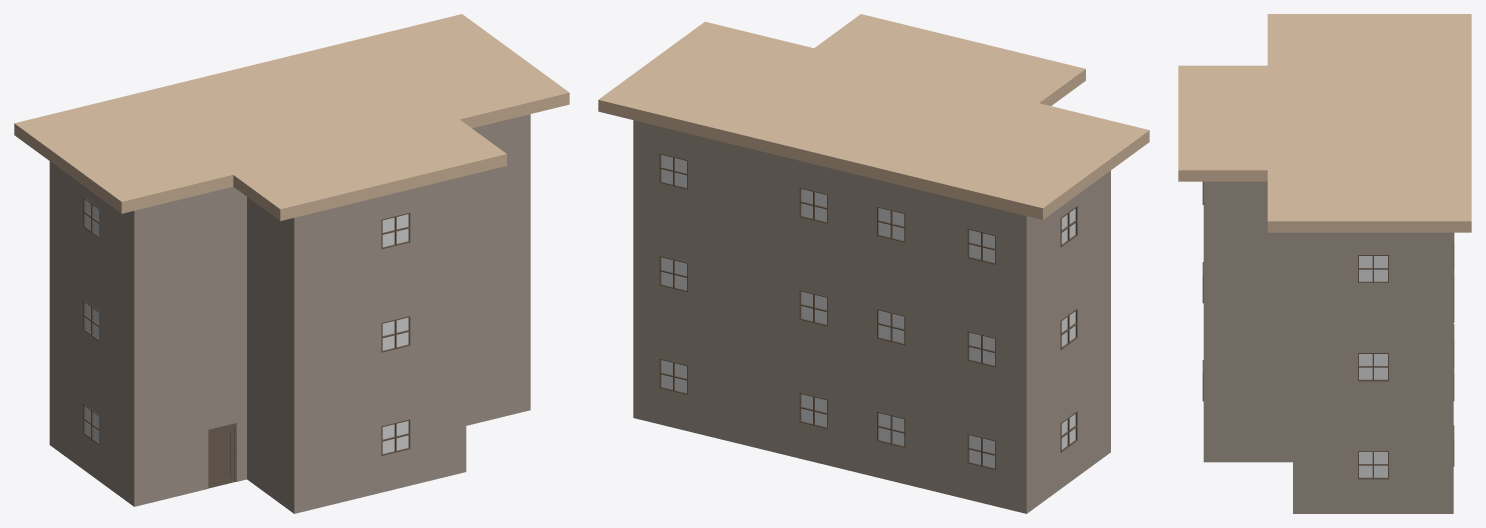
The model's file is House_27.fbx.
3 renders of one model, left to right at view 1: azimuth 30°, elevation 25°; view 2: azimuth 150°, elevation 25°; view 3: azimuth 270°, elevation 25°, orthographic. The views are drawn at different scales.
Parts seen in each view (by area): view 1: House_27_Body; view 2: House_27_Body; view 3: House_27_Body.
Part boxes in pixels (box(x1,y1,x2,y2)): House_27_Body: box(14, 14, 569, 513); House_27_Body: box(598, 14, 1149, 513); House_27_Body: box(1178, 14, 1471, 513).
Size of the model in its own units: 1589 by 1088 by 950.
